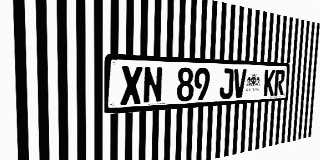8: (177, 67, 194, 102)
9: (194, 68, 210, 101)
J: (219, 68, 234, 99)
K: (263, 70, 275, 96)
N: (143, 66, 163, 104)
R: (274, 70, 285, 96)
V: (233, 69, 247, 98)
X: (120, 66, 142, 105)
